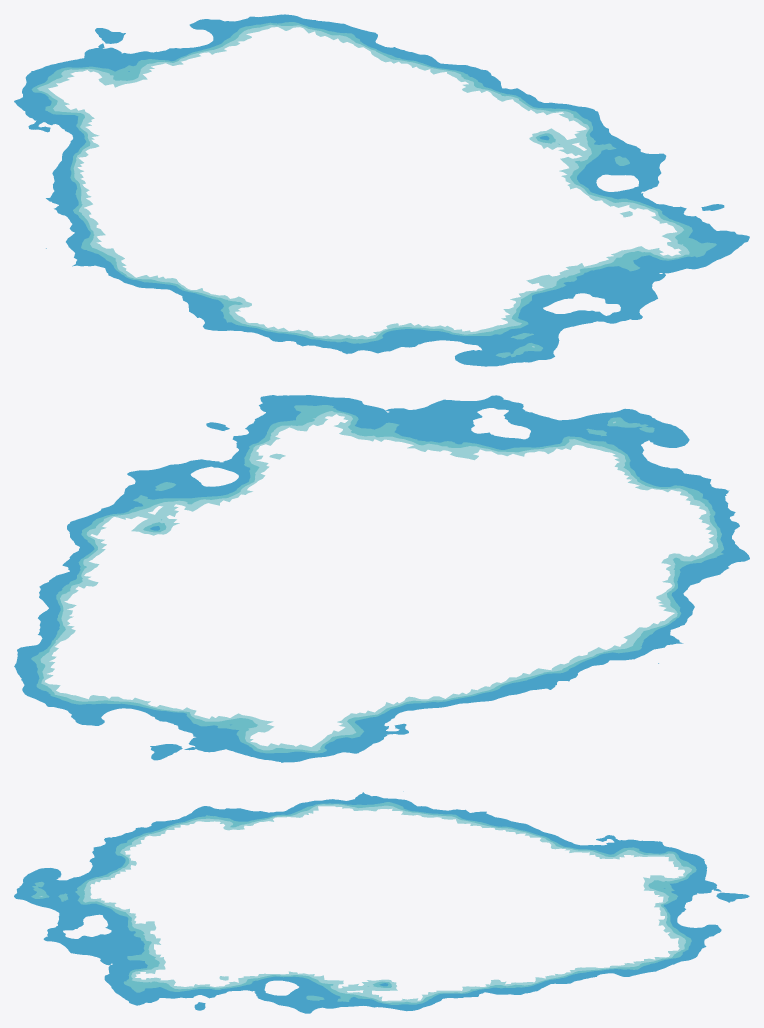
File: Isl-flat5-Water.fbx
3 views of the same model, one above another, from view 1: azimuth 30°, elevation 25°; view 2: azimuth 150°, elevation 25°; view 3: azimuth 270°, elevation 25° (orthographic). The views are drawn at different scales.
Parts seen in each view (by area): view 1: Isl-flat5-Water; view 2: Isl-flat5-Water; view 3: Isl-flat5-Water.
Boxes of the visible parts, x1,y1,x2,y2 form: Isl-flat5-Water: [14, 14, 749, 366]; Isl-flat5-Water: [14, 395, 749, 762]; Isl-flat5-Water: [14, 791, 749, 1013].
Size of the model in its own units: 107 by 0 by 149.
